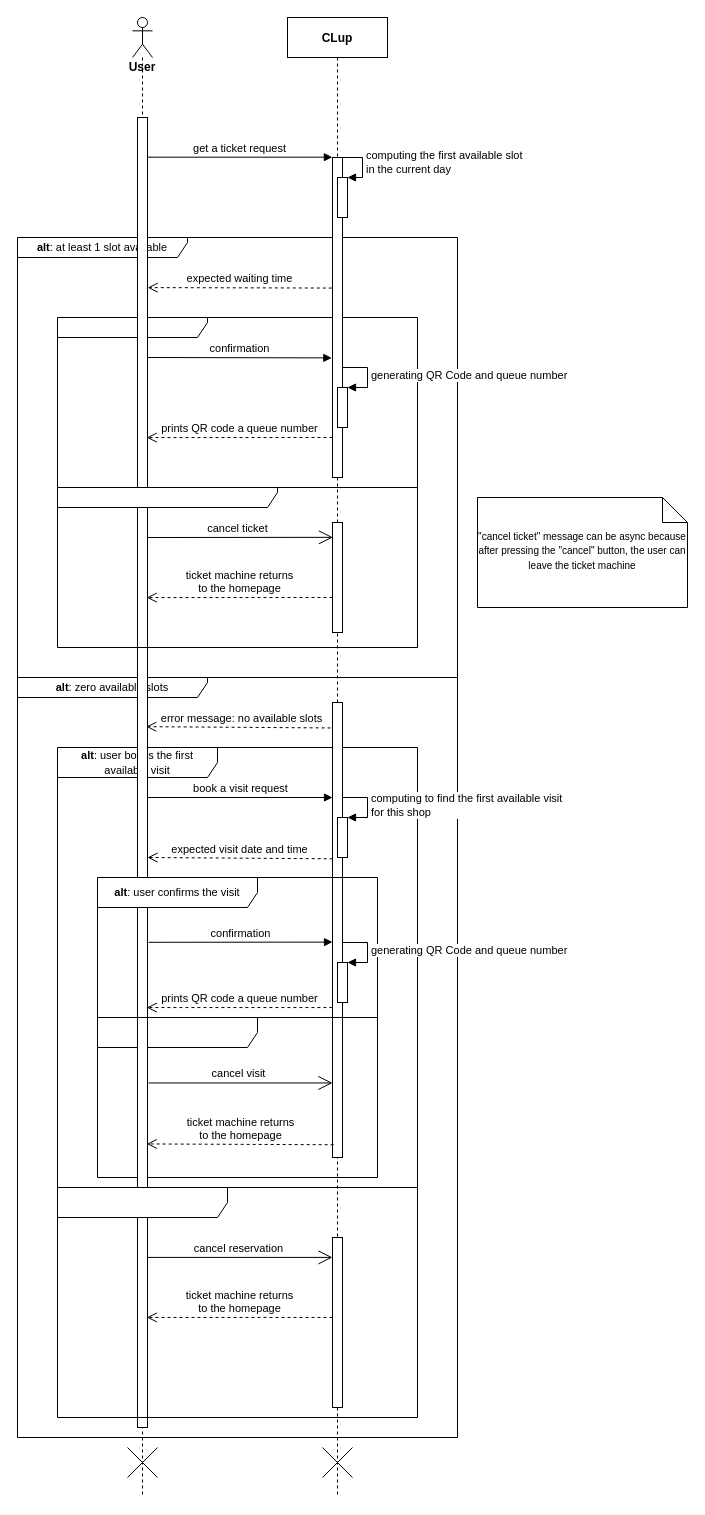
Some shapes in this 705 by 1515 pixel diagram are drawn without their labels. Each missing label, with the centre of its shape:
"alt : user cancels its reservation" belongs at point (237, 1302).
"alt : user cancels the ticket" belongs at point (237, 567).
"alt : user cancels the visit" belongs at point (237, 1097).
"alt : user confirms the ticket" belongs at point (237, 402).
